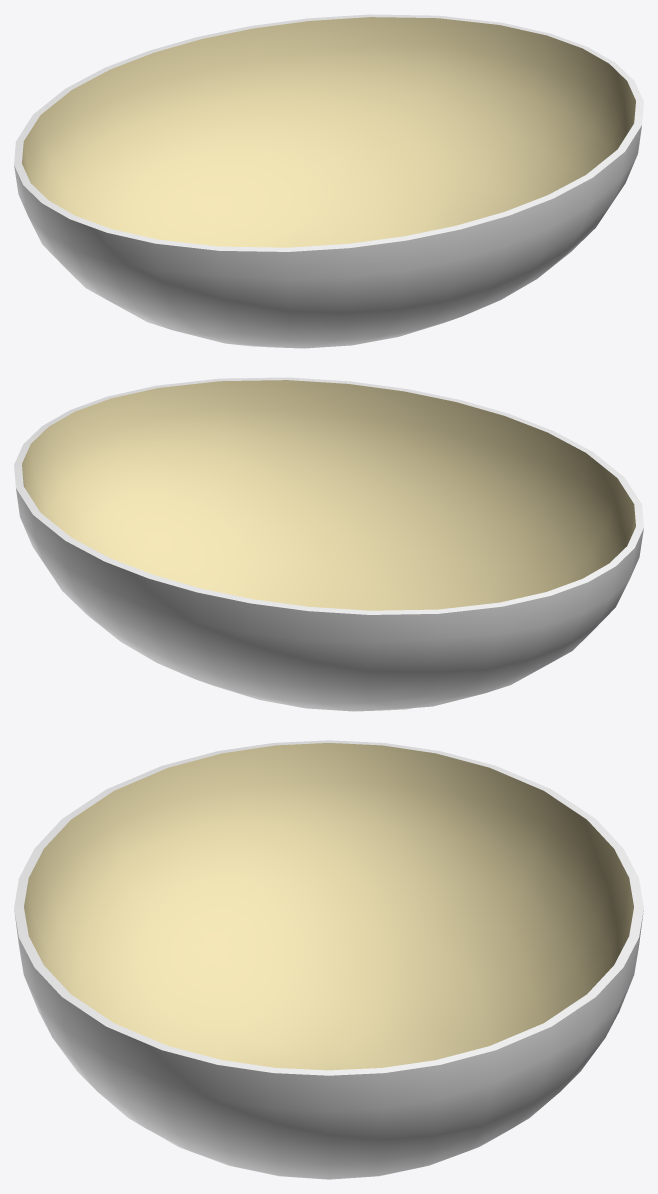
The model's file is dish_round.glb.
3 renders of one model, top to bottom at view 1: azimuth 30°, elevation 25°; view 2: azimuth 150°, elevation 25°; view 3: azimuth 270°, elevation 25°, orthographic. The views are drawn at different scales.
Visible parts, largest first — view 1: dish_round.001; view 2: dish_round.001; view 3: dish_round.001.
Part boxes in pixels (<box>): dish_round.001: <box>14,14,643,348</box>; dish_round.001: <box>14,377,643,711</box>; dish_round.001: <box>14,740,643,1179</box>.
Size of the model in its own units: 0.2715 by 0.0785 by 0.2155.
1 material, 1 textured.
